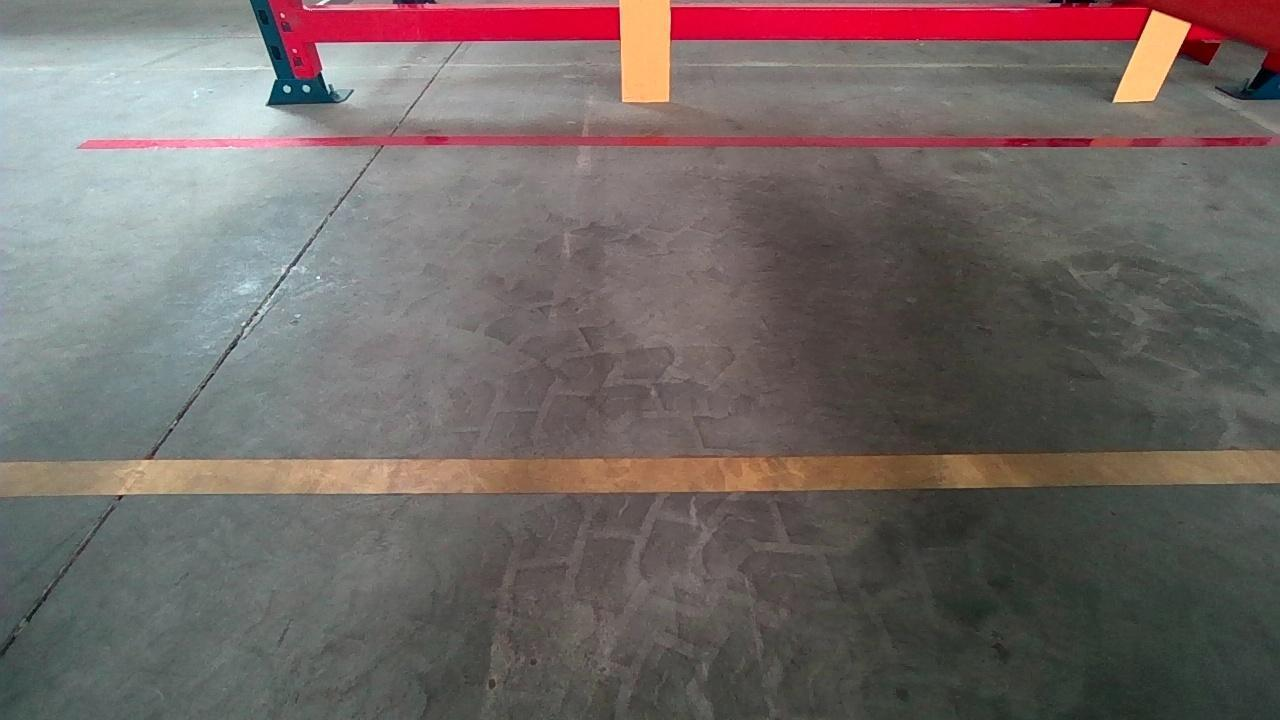h_rack: (306, 9, 1235, 42)
orange_strip: (1115, 8, 1194, 100), (620, 0, 672, 100)
red_line: (79, 132, 1280, 152)
yellow_line: (0, 448, 1280, 495)
